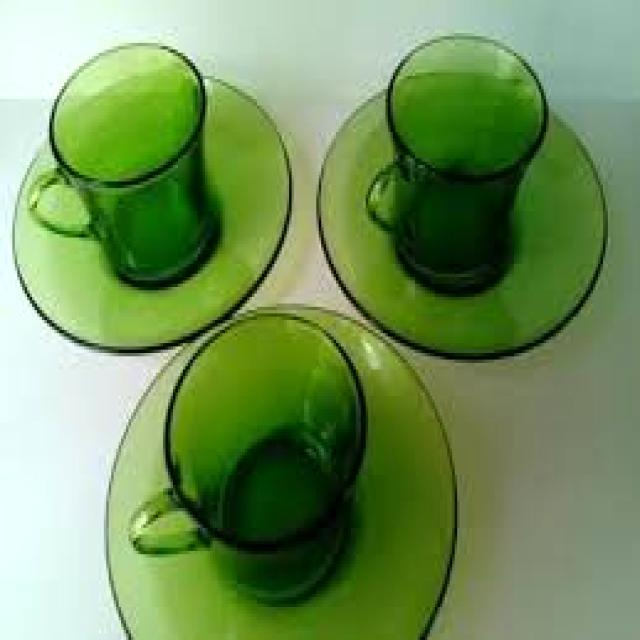Glass: (154, 310, 370, 600), (380, 31, 550, 295), (46, 36, 228, 282)
